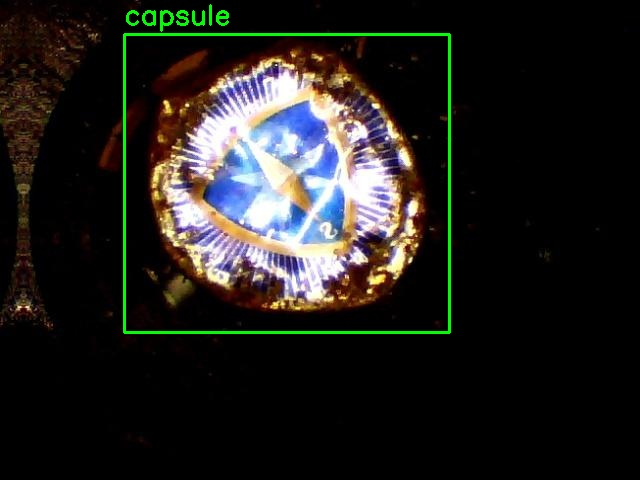capsule: (124, 34, 449, 332)
